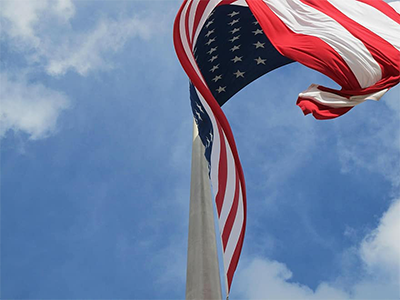America flag: (172, 1, 400, 296)
